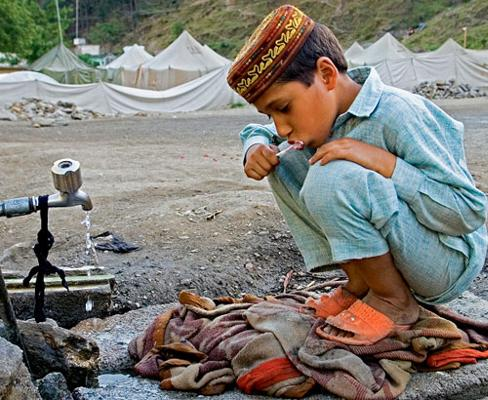person: (224, 6, 486, 343)
